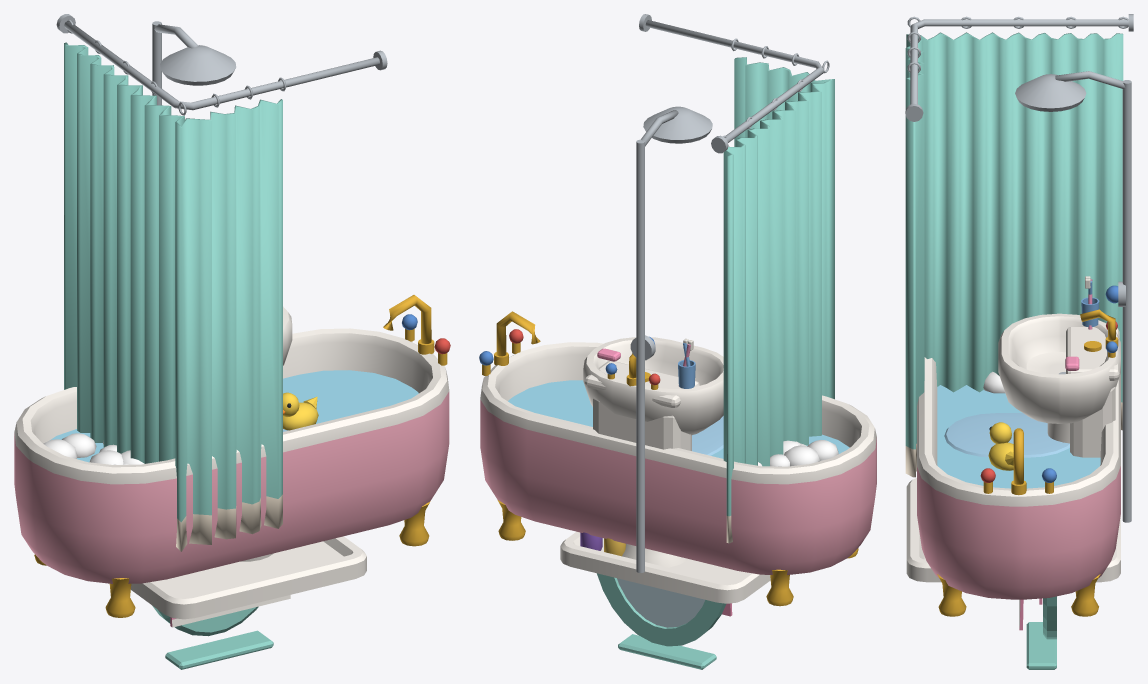
The model's file is casa-banheiro.glb.
3 views of the same model, side by side, from view 1: azimuth 30°, elevation 25°; view 2: azimuth 150°, elevation 25°; view 3: azimuth 270°, elevation 25° (orthographic). The views are drawn at different scales.
Parts seen in each view (by area): view 1: box-chuveiro, banheira, espelho; view 2: box-chuveiro, banheira, pia-banheiro, espelho, vaso-sanitario; view 3: box-chuveiro, banheira, pia-banheiro, vaso-sanitario, espelho.
Boxes of the visible parts, x1=… form: box-chuveiro: x1=56, y1=14, x2=387, y2=619; banheira: x1=14, y1=295, x2=450, y2=617; espelho: x1=152, y1=605, x2=273, y2=669; box-chuveiro: x1=560, y1=14, x2=834, y2=603; banheira: x1=479, y1=311, x2=876, y2=606; pia-banheiro: x1=583, y1=337, x2=723, y2=567; espelho: x1=597, y1=573, x2=726, y2=669; vaso-sanitario: x1=584, y1=361, x2=723, y2=455; box-chuveiro: x1=905, y1=14, x2=1133, y2=582; banheira: x1=917, y1=357, x2=1120, y2=616; pia-banheiro: x1=998, y1=276, x2=1120, y2=443; vaso-sanitario: x1=944, y1=327, x2=1119, y2=457; espelho: x1=1026, y1=596, x2=1056, y2=669.
Bounding box in the file's own units: 1.7 × 2.54 × 0.895.
